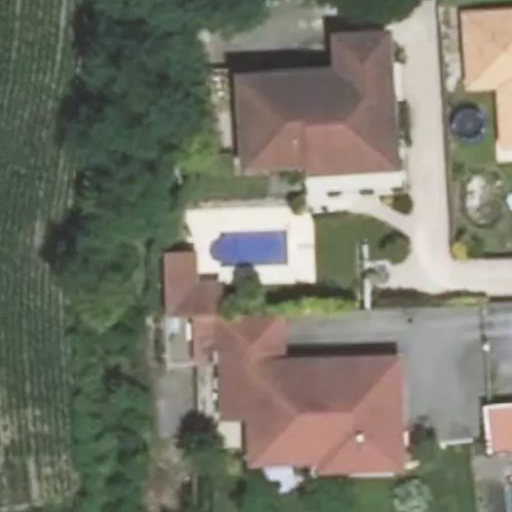pool: (219, 223, 292, 260)
